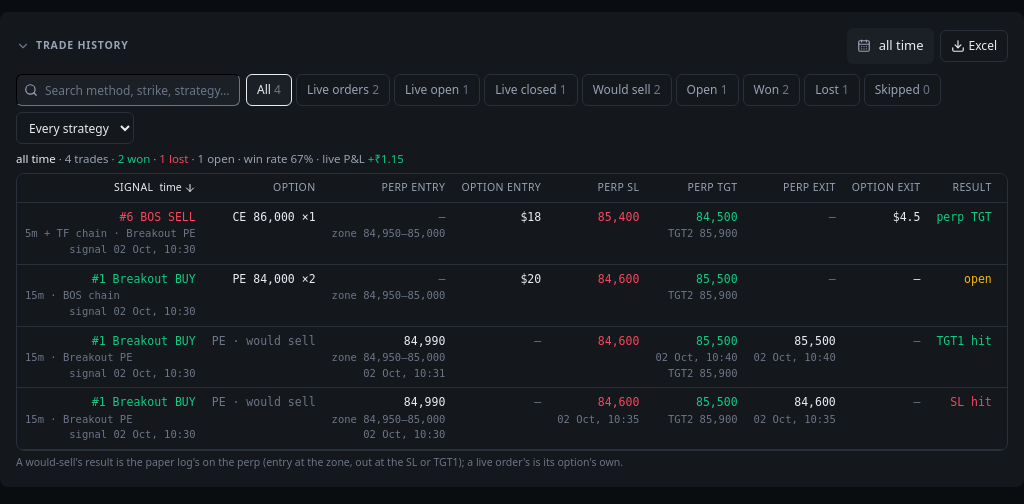
Test: the signal trade history › [critical] the totals follow the filter: won, lost, open, win rate, live P&L
Expected: the element named "history totals" shows "4 trades · 2 won · 1 lost · 1 open · win rate 67% · live P&L +₹1.15", [16,151,404,166]
Click the button "Would sell 2" at (627, 90), box [582,74,672,106]
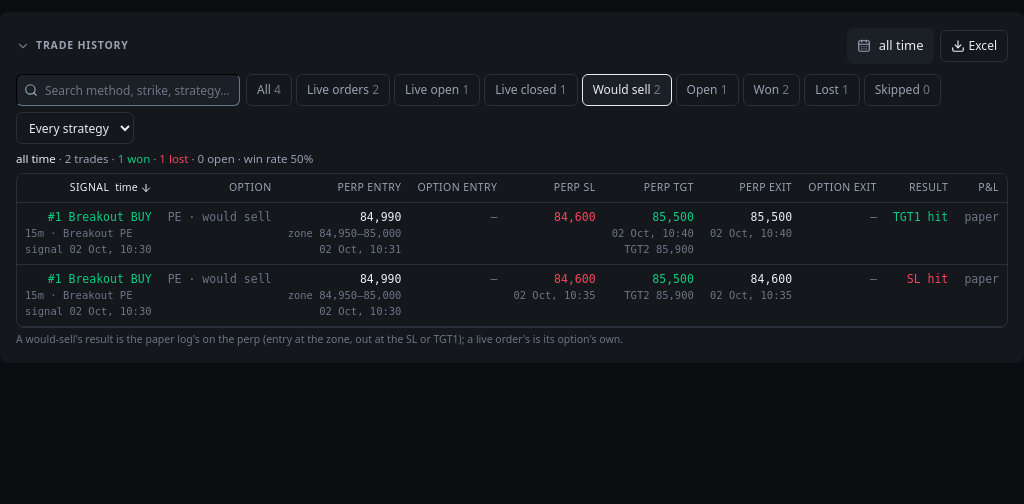
Now the element named "history totals" shows "2 trades · 1 won · 1 lost · 0 open · win rate 50%", box [16,151,313,166]
Click the button "All 4" at (269, 90), box [246,74,292,106]
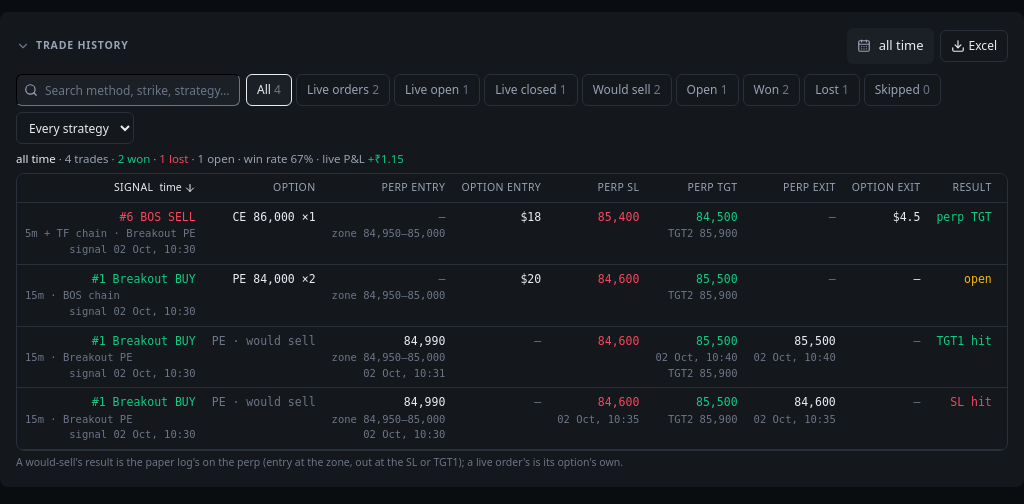
Select "BOS chain" in the dropdown named "which strategy" at (75, 128), box [16,112,134,144]
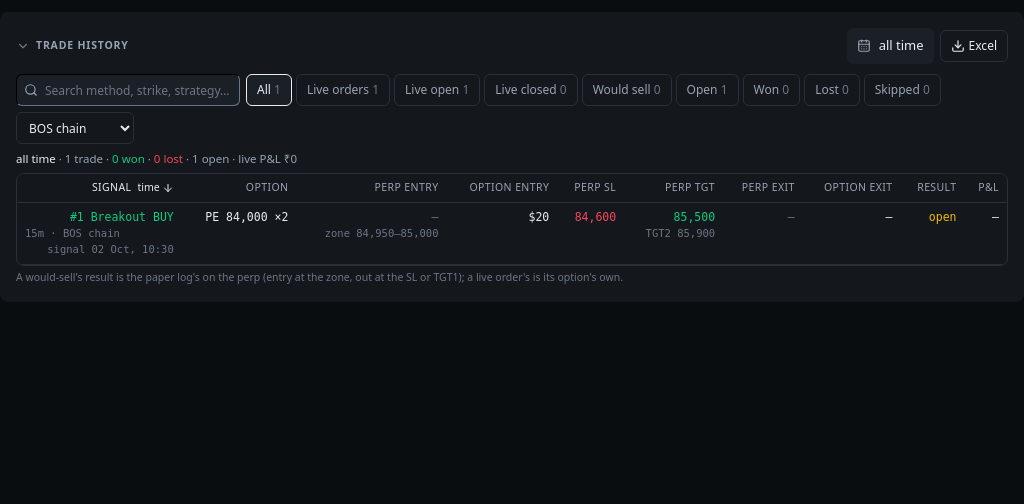
Now the element named "history totals" shows "1 trade · 0 won · 0 lost · 1 open", box [16,151,297,166]
